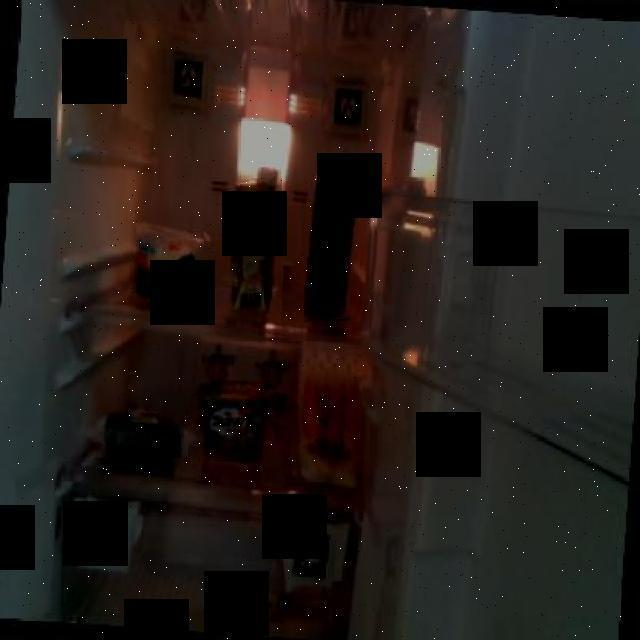can: (304, 163, 364, 323)
pudding: (130, 216, 205, 299)
rice_ball: (92, 393, 188, 458)
sandwich: (286, 344, 362, 488)
smoothie: (222, 167, 282, 318)
yogurt: (196, 380, 276, 462)
